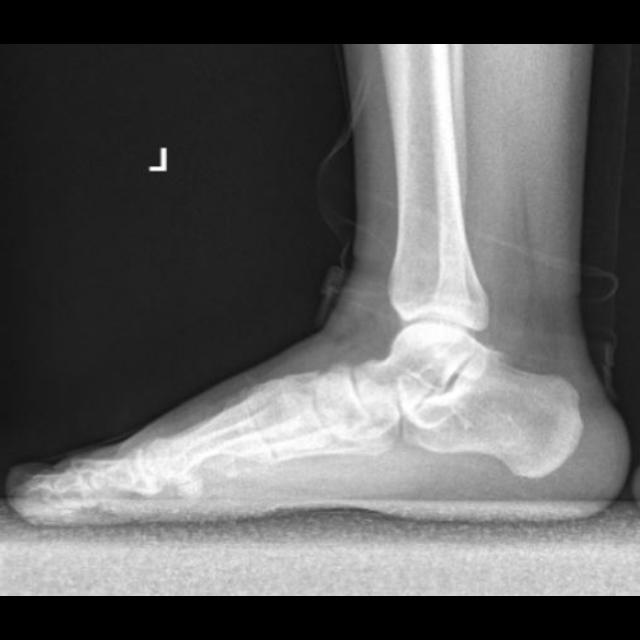a: (398, 351, 581, 483)
b: (312, 364, 379, 442)
c: (141, 386, 297, 479)
